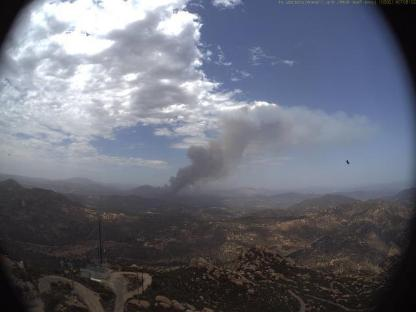smoke: (148, 102, 378, 207)
